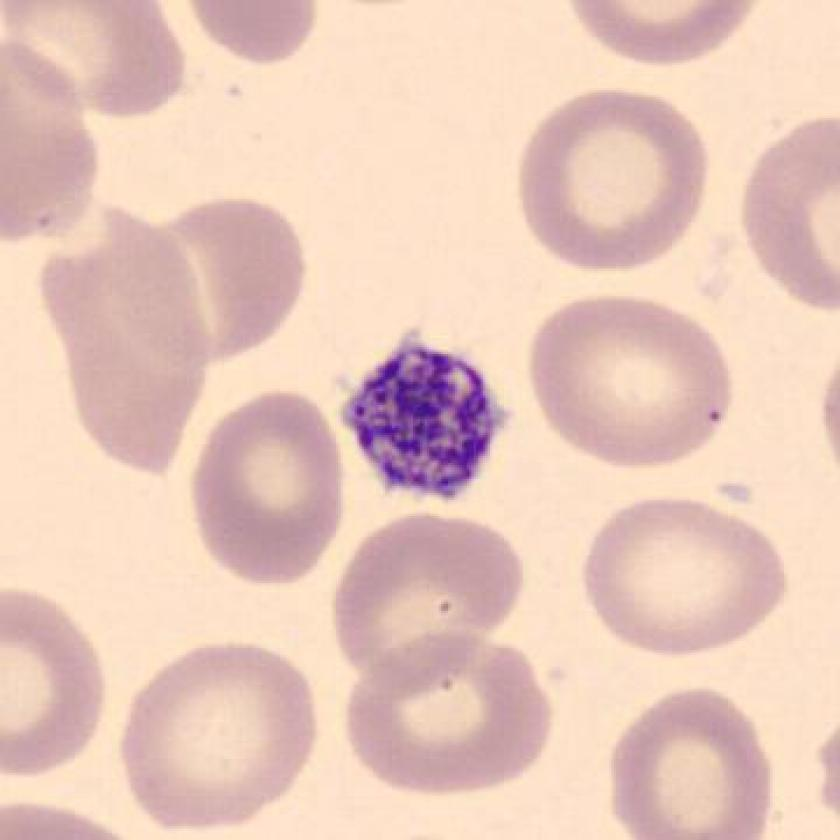platelets: (337, 325, 521, 508)
